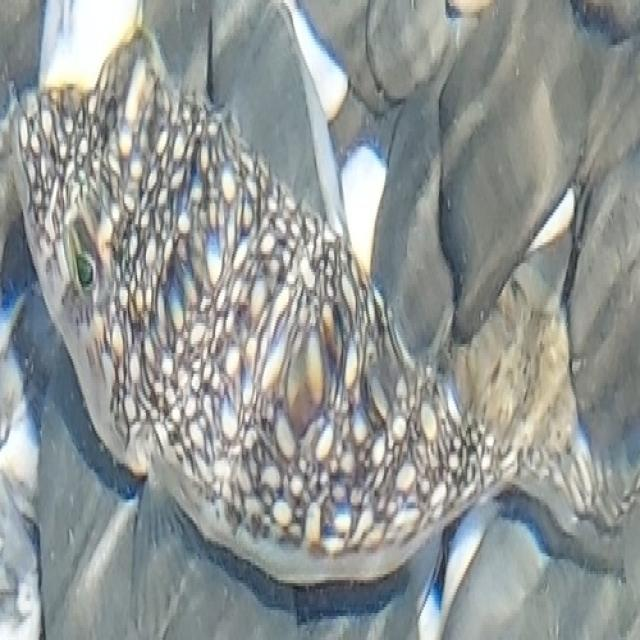Balik: (12, 30, 636, 583)
